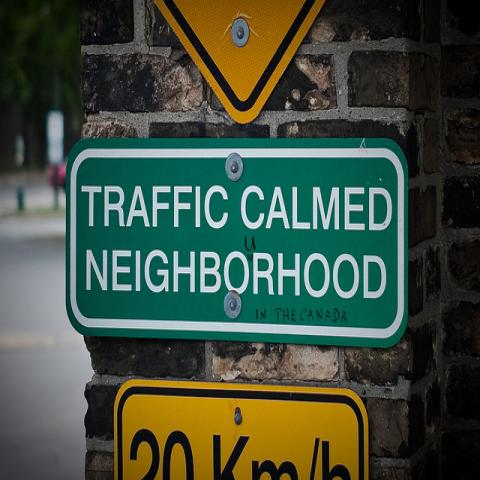car: (46, 159, 66, 188)
